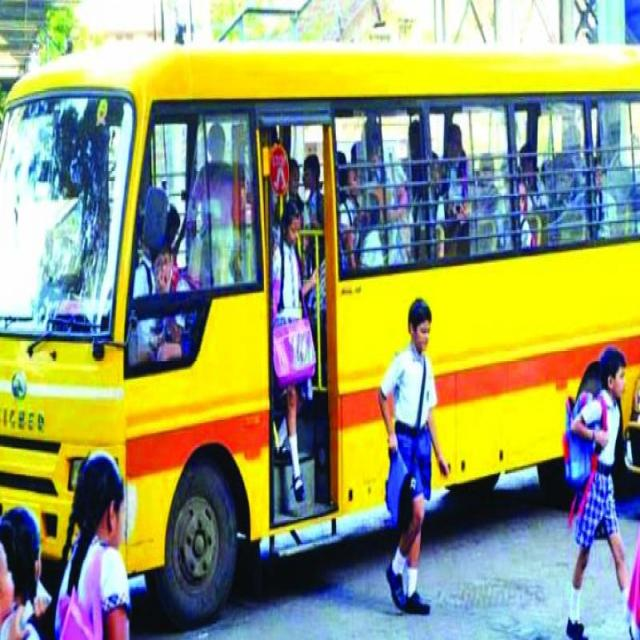bus: (0, 45, 640, 624)
